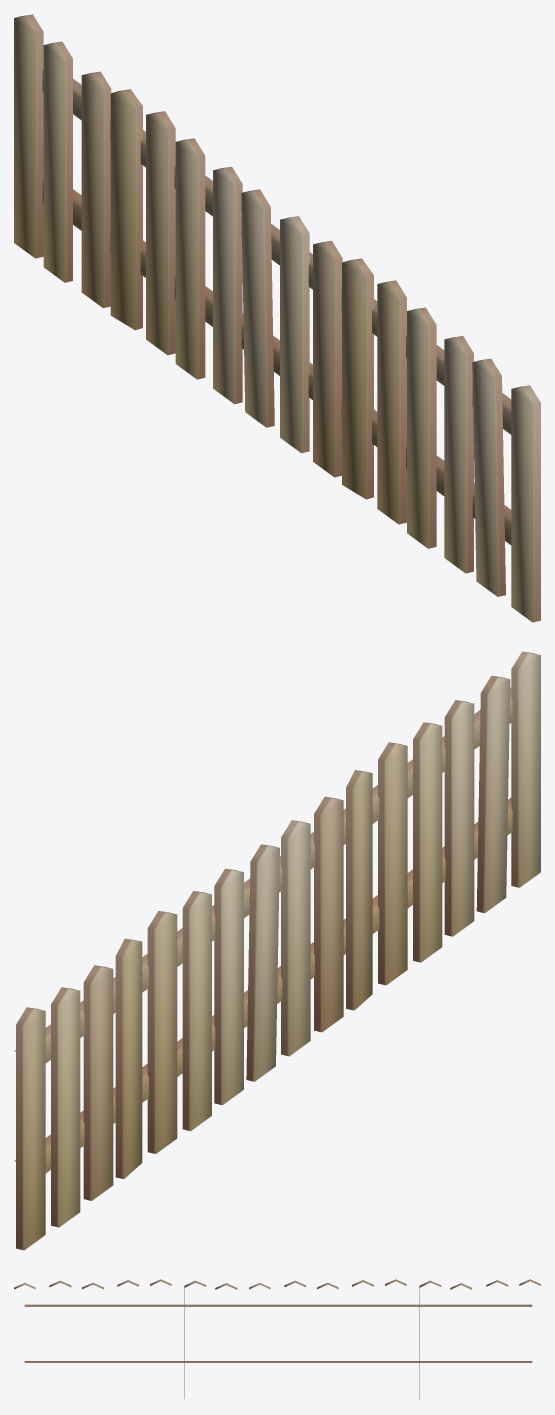
The model's file is WoodFence01.glb.
3 renders of one model, top to bottom at view 1: azimuth 30°, elevation 25°; view 2: azimuth 150°, elevation 25°; view 3: azimuth 270°, elevation 25°, orthographic. The views are drawn at different scales.
Visible parts, largest first — view 1: WoodFence01; view 2: WoodFence01; view 3: WoodFence01.
Boxes of the visible parts, x1,y1,x2,y2 form: WoodFence01: [14, 14, 540, 622]; WoodFence01: [14, 651, 540, 1250]; WoodFence01: [14, 1279, 540, 1399].
Size of the model in its own units: 0.2173 by 2.14 by 8.57.
